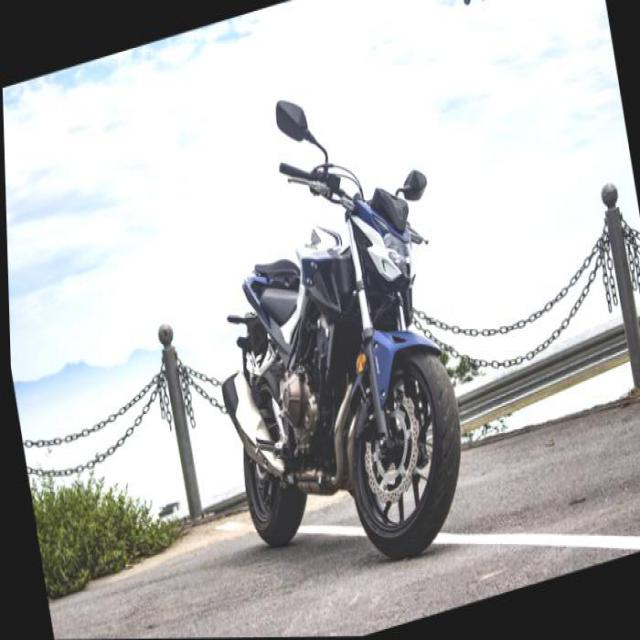CB500F: (174, 51, 483, 604)
